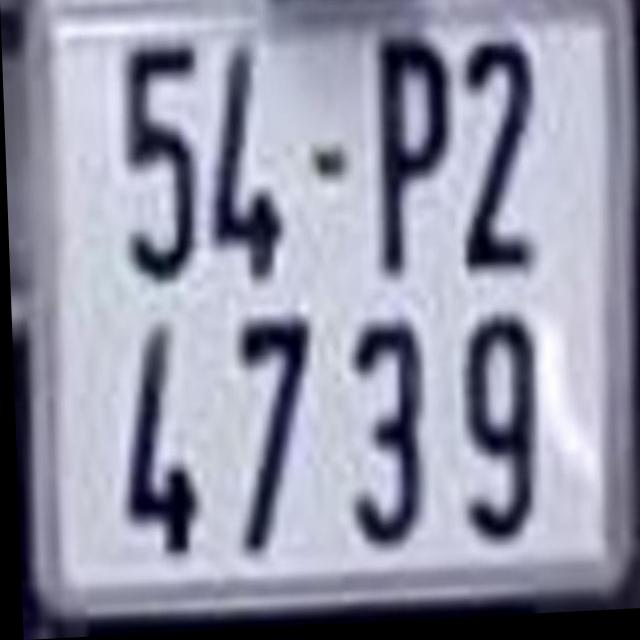2: (464, 41, 535, 282)
3: (343, 313, 423, 555)
4: (118, 319, 196, 559), (208, 48, 284, 288)
5: (120, 42, 194, 280)
7: (234, 310, 311, 550)
9: (459, 317, 531, 551)
P: (373, 33, 459, 291)
